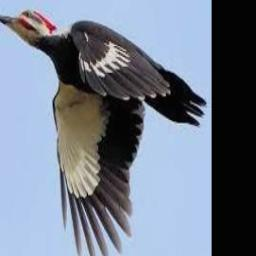Woodpecker: (0, 8, 207, 256)
